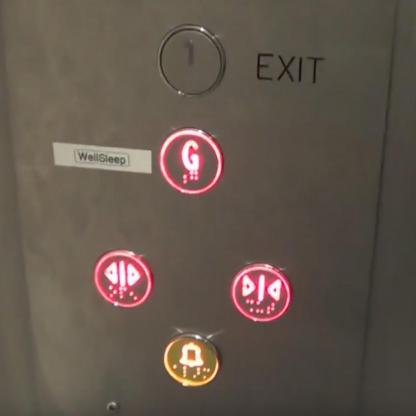1: (156, 24, 226, 98)
G: (158, 126, 225, 194)
alarm: (162, 331, 221, 387)
close: (230, 262, 292, 322)
open: (94, 248, 152, 308)
